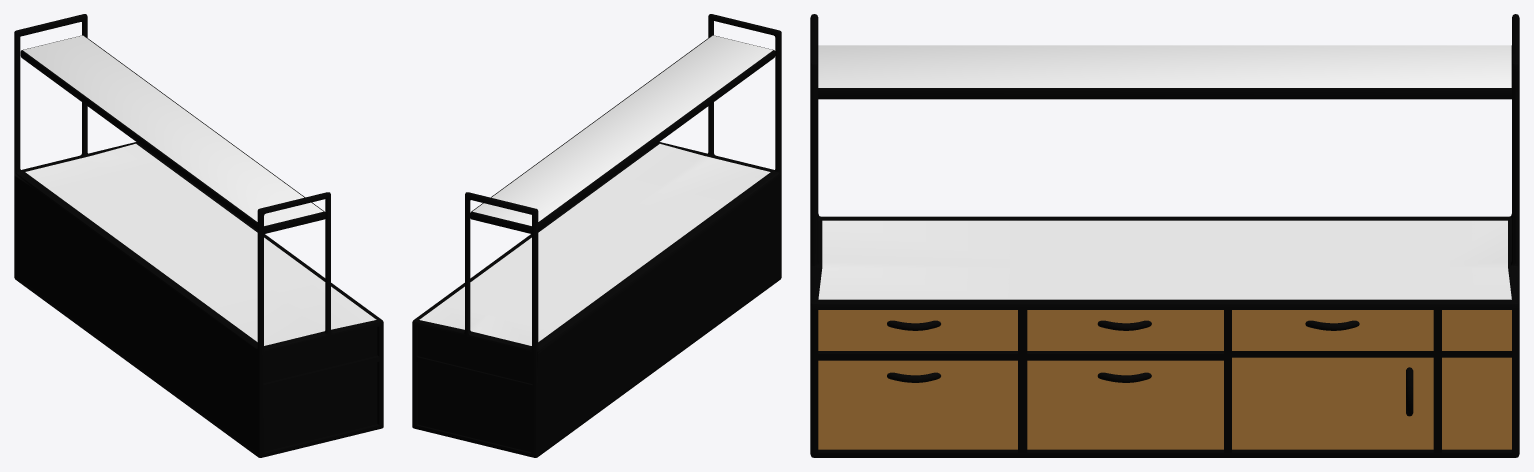
The model's file is Mesa_Cocina.fbx.
3 renders of one model, left to right at view 1: azimuth 30°, elevation 25°; view 2: azimuth 150°, elevation 25°; view 3: azimuth 270°, elevation 25°, orthographic. The views are drawn at different scales.
Parts seen in each view (by area): view 1: Box017; view 2: Box017; view 3: Box017.
Boxes of the visible parts, bbox=[...] form: Box017: bbox=[14, 14, 383, 457]; Box017: bbox=[412, 14, 781, 457]; Box017: bbox=[810, 14, 1519, 457].
Bounding box in the file's own units: 55.43 × 103 × 185.
